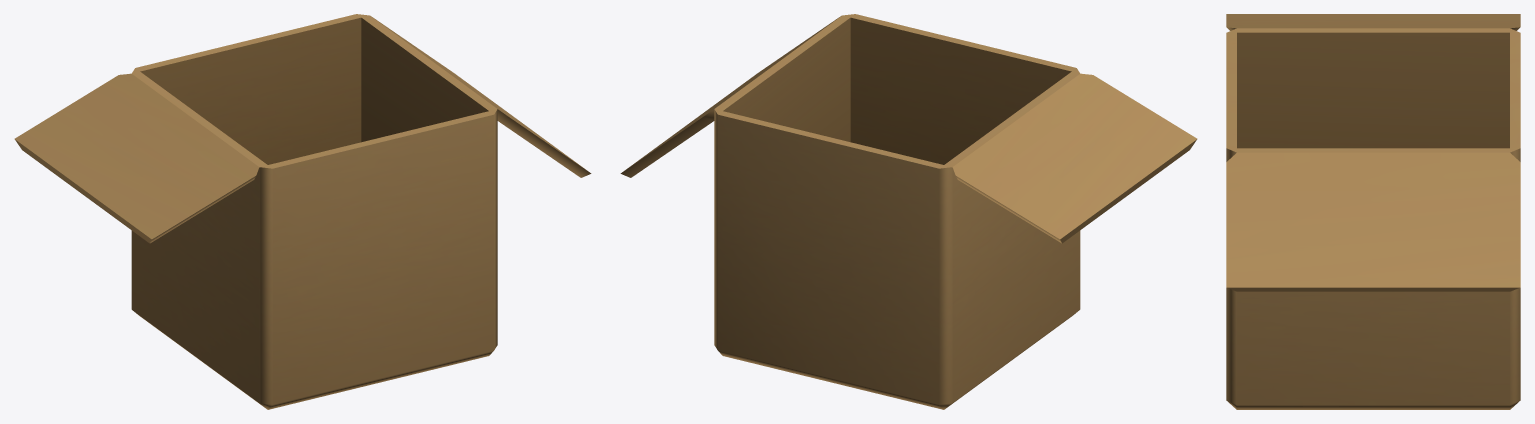
The model's file is box_cardboard_large_square_open_flaps.fbx.
3 views of the same model, side by side, from view 1: azimuth 30°, elevation 25°; view 2: azimuth 150°, elevation 25°; view 3: azimuth 270°, elevation 25° (orthographic). The views are drawn at different scales.
Visible parts, largest first — view 1: box_cardboard_large_square_open_flaps; view 2: box_cardboard_large_square_open_flaps; view 3: box_cardboard_large_square_open_flaps.
Boxes of the visible parts, left/top/right/bottom form: box_cardboard_large_square_open_flaps: left=14, top=14, right=591, bottom=409; box_cardboard_large_square_open_flaps: left=620, top=14, right=1197, bottom=409; box_cardboard_large_square_open_flaps: left=1226, top=14, right=1520, bottom=409.
Bounding box in the file's own units: 191 × 102 × 104.
